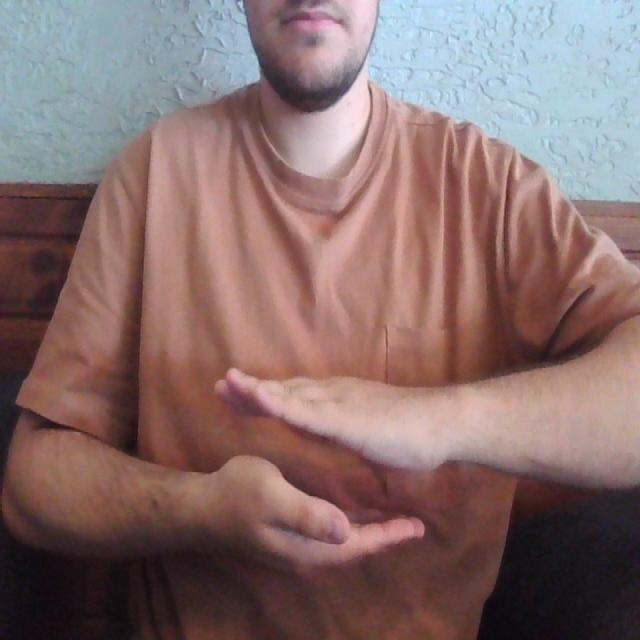Arkadas: (80, 347, 490, 578)
